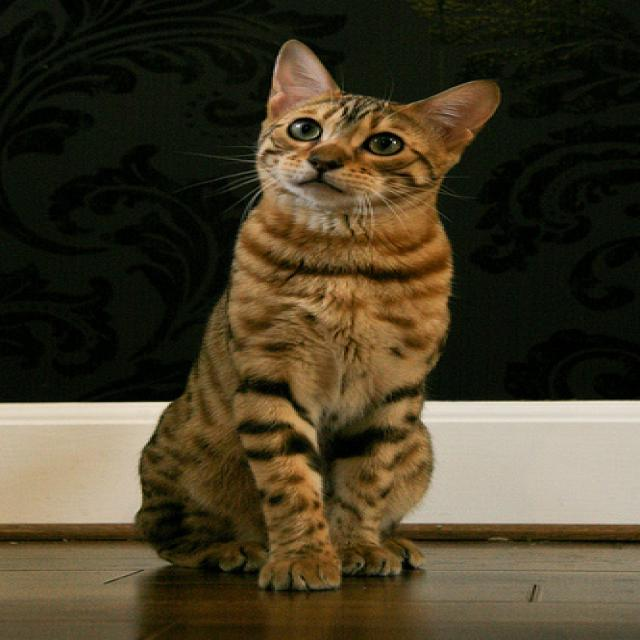Bengal: (241, 40, 500, 210)
